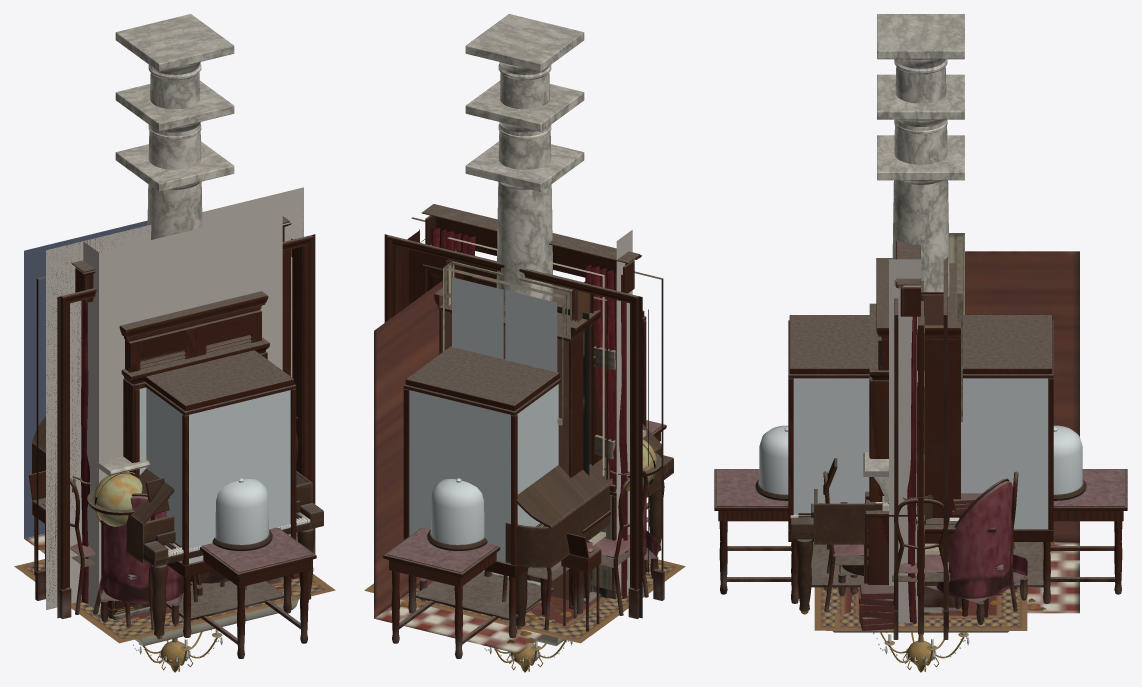
File: tile.glb
3 views of the same model, side by side, from view 1: azimuth 30°, elevation 25°; view 2: azimuth 150°, elevation 25°; view 3: azimuth 270°, elevation 25° (orthographic).
Parts seen in each view (by area): view 1: Mod_fireplace_tile, Solid_vitrine_double, Door_frame_tile, Col_column_tile_H450, Solid_display_bench, Win_tall, Isl_grand_piano, Isl_parlour, Door_closed_tile, Exit_tile_p1, Isl_reading, Band_doll_cabinet (+13 smaller); view 2: Solid_vitrine_double, Exit_tile_p0, Col_column_tile_H450, Win_tall_curtain, Door_frame_tile, Isl_grand_piano, Solid_display_bench, Win_tall_glass, Ward_body_tile, Isl_parlour, Isl_dining, Col_column_tile_H400 (+9 smaller); view 3: Solid_vitrine_double, Exit_tile_p0, Col_column_tile_H450, Solid_display_bench, Isl_parlour, Ward_body_tile, Mod_fireplace_tile, Isl_reading, Isl_grand_piano, Win_tall_curtain, Door_frame_tile, Isl_dining (+7 smaller).
Boxes of the visible parts, x1,y1,x2,y2 form: Mod_fireplace_tile: (46, 203, 303, 619); Solid_vitrine_double: (140, 350, 296, 637); Door_frame_tile: (35, 234, 315, 618); Col_column_tile_H450: (115, 14, 234, 239); Solid_display_bench: (200, 478, 316, 658); Win_tall: (46, 188, 303, 609); Isl_grand_piano: (32, 416, 323, 639); Isl_parlour: (14, 470, 335, 643); Door_closed_tile: (46, 187, 303, 609); Exit_tile_p1: (24, 220, 147, 538); Isl_reading: (25, 471, 325, 635); Band_doll_cabinet: (121, 337, 269, 610); Solid_vitrine_double: (403, 310, 646, 637); Exit_tile_p0: (374, 280, 607, 653); Col_column_tile_H450: (465, 14, 584, 316); Win_tall_curtain: (422, 204, 642, 598); Door_frame_tile: (384, 217, 664, 618); Isl_grand_piano: (505, 424, 673, 629); Solid_display_bench: (383, 420, 666, 658); Win_tall_glass: (452, 277, 557, 372); Ward_body_tile: (434, 284, 600, 609); Isl_parlour: (364, 487, 685, 643); Isl_dining: (453, 470, 648, 630); Col_column_tile_H400: (465, 80, 584, 139); Solid_vitrine_double: (788, 315, 1053, 603); Exit_tile_p0: (924, 251, 1079, 614); Col_column_tile_H450: (877, 14, 964, 296); Solid_display_bench: (714, 425, 1127, 594); Isl_parlour: (814, 478, 1028, 630); Ward_body_tile: (876, 258, 960, 612); Mod_fireplace_tile: (863, 259, 920, 622); Isl_reading: (834, 493, 1007, 630); Isl_grand_piano: (790, 458, 932, 614); Win_tall_curtain: (894, 239, 943, 624); Door_frame_tile: (893, 257, 948, 639); Isl_dining: (823, 471, 1018, 631).
Bounding box in the file's own units: 2.25 × 5.29 × 3.09.
Materials: 34 (30 with a texture image).
